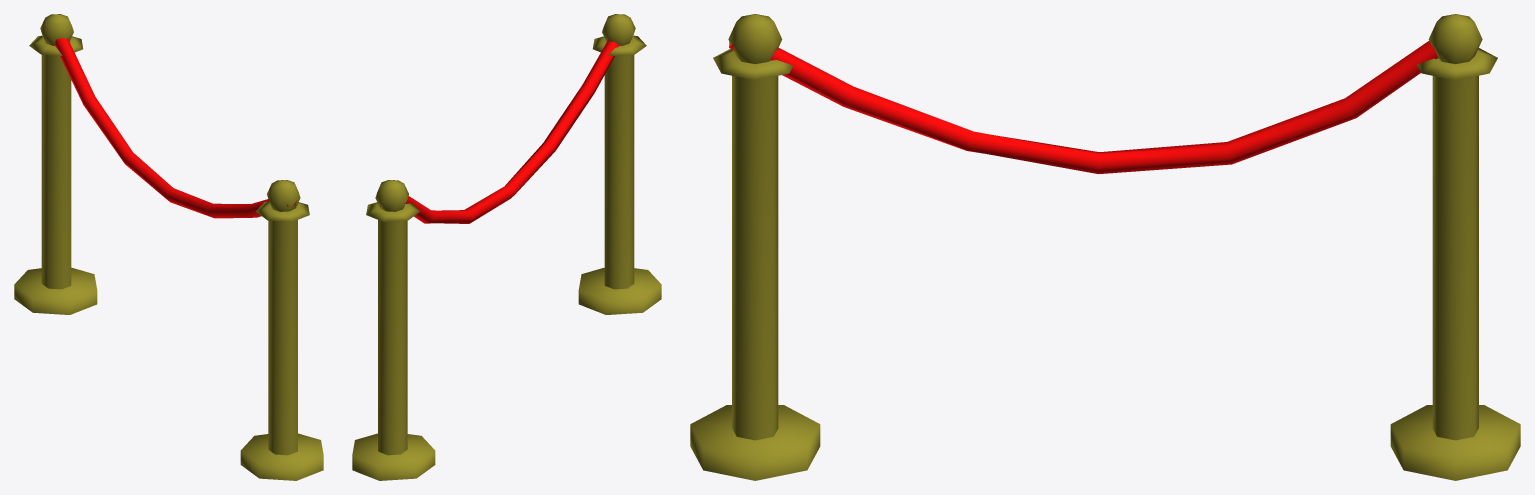
The model's file is Gold_Bollard_Combined.fbx.
3 renders of one model, left to right at view 1: azimuth 30°, elevation 25°; view 2: azimuth 150°, elevation 25°; view 3: azimuth 270°, elevation 25°, orthographic. The views are drawn at different scales.
Parts seen in each view (by area): view 1: Gold_Bollard_Combined; view 2: Gold_Bollard_Combined; view 3: Gold_Bollard_Combined.
Boxes of the visible parts, x1,y1,x2,y2 form: Gold_Bollard_Combined: (14, 14, 323, 480); Gold_Bollard_Combined: (352, 14, 661, 480); Gold_Bollard_Combined: (690, 14, 1520, 480).
Bounding box in the file's own units: 22.72 × 86.73 × 149.
